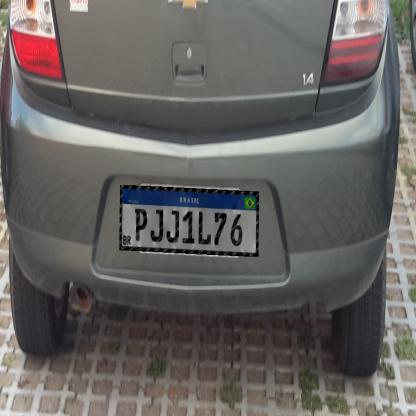PlacaM: (119, 185, 259, 257)
